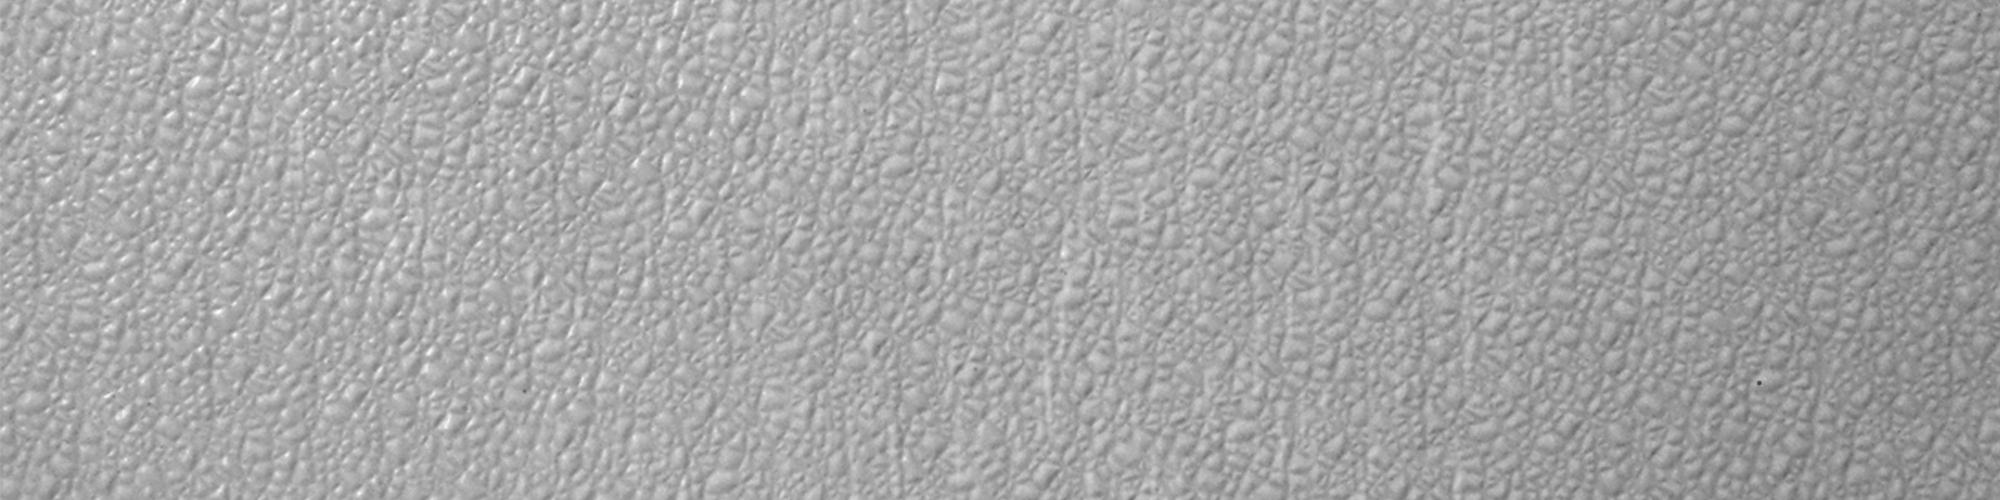Streaks: (1036, 283, 1079, 434), (1550, 31, 1587, 124)
